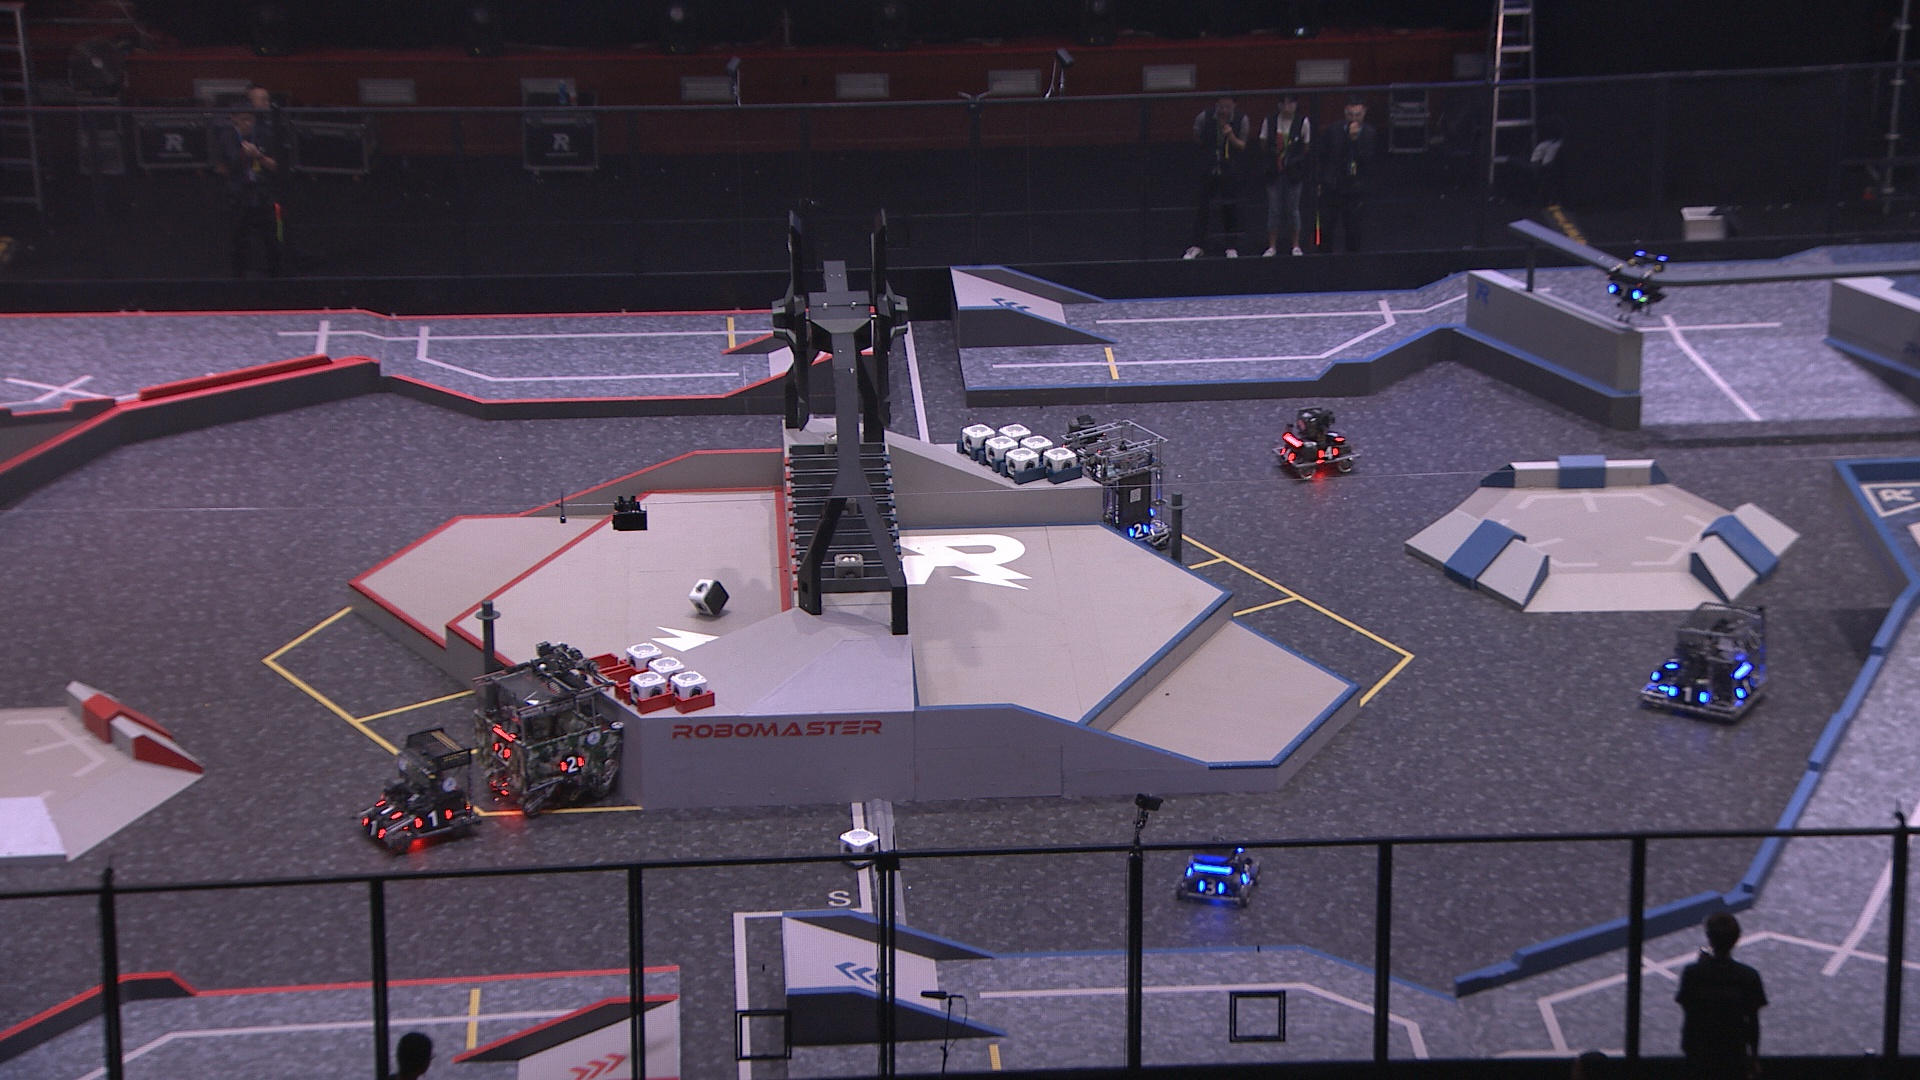armor: (407, 803, 458, 832), (371, 793, 407, 823), (1664, 683, 1708, 705), (357, 816, 392, 843), (556, 752, 588, 775), (1605, 281, 1640, 302), (1195, 874, 1225, 898), (1125, 517, 1153, 541), (1733, 675, 1756, 699), (1315, 442, 1342, 462), (491, 737, 514, 760), (1238, 858, 1255, 885), (1275, 444, 1295, 465), (1662, 650, 1683, 669)
car: (467, 651, 621, 816), (1636, 597, 1770, 727), (352, 727, 483, 856), (1058, 415, 1174, 555), (1168, 831, 1265, 907), (1269, 404, 1356, 480)
watcher: (1602, 233, 1671, 327)
